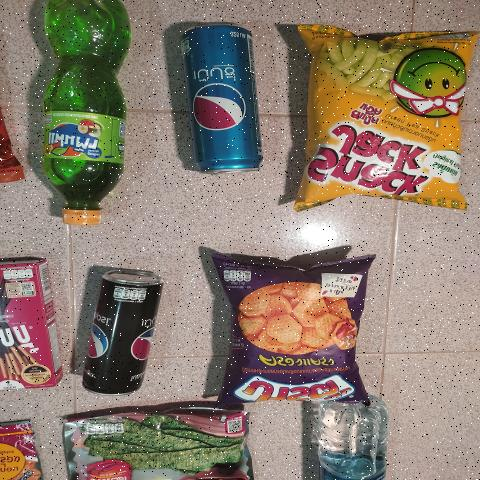fanta_green: (39, 2, 134, 232)
party_purple: (234, 272, 350, 397)
pepsi_black: (78, 272, 170, 404)
pepsi_blue: (174, 17, 265, 183)
snack_jack: (317, 35, 463, 195)
